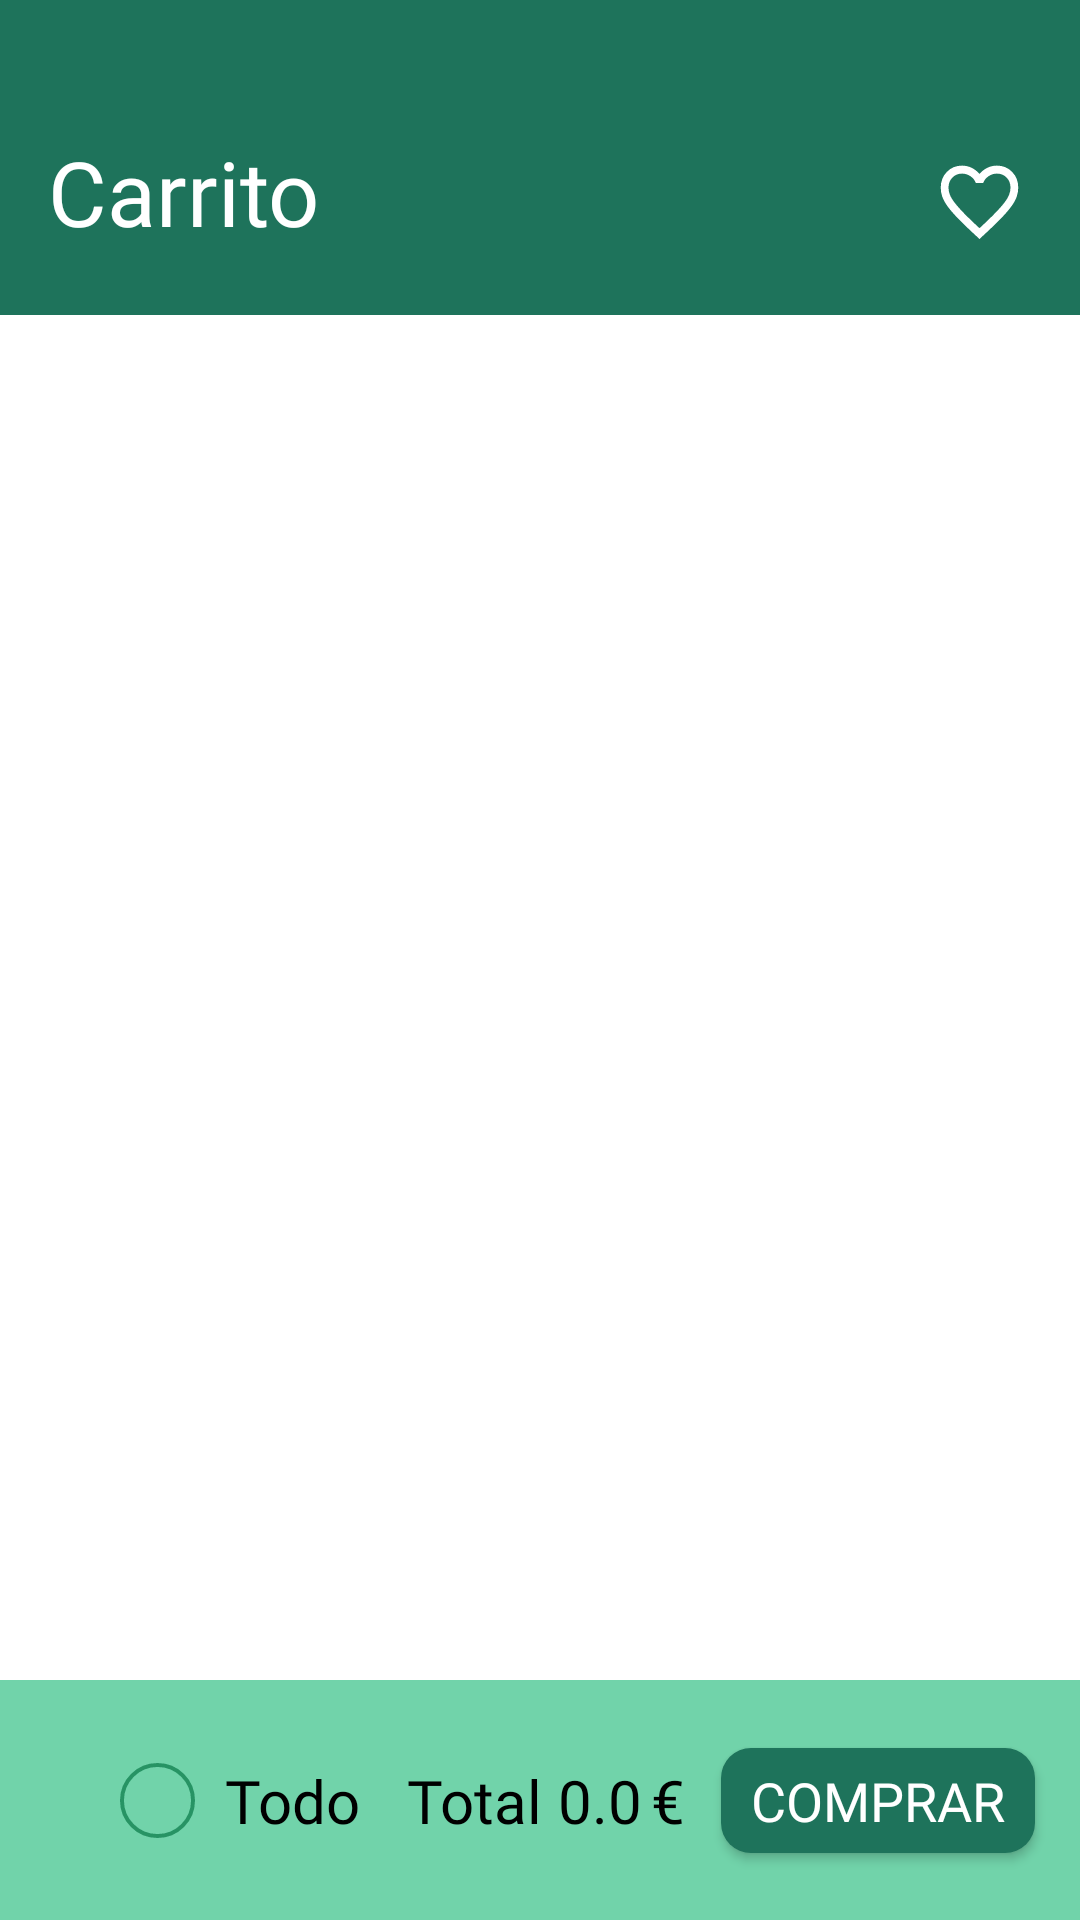

Locate icon controls on the screen. Image size 1080 × 1920, boxes as (x1=x1, y1=y1, x2=x2, y2=y2).
favorite: (x1=940, y1=165, x2=1019, y2=239)
